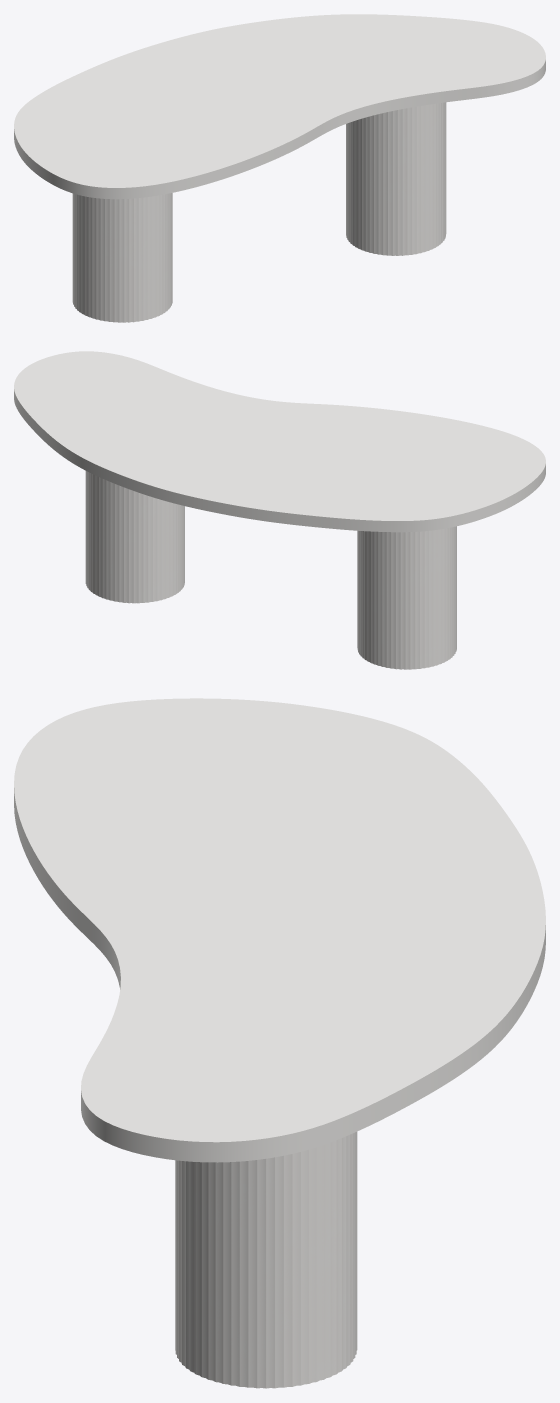
Rendered from purewhite_leaf1_standard_ripplesecond.glb.
3 renders of one model, top to bottom at view 1: azimuth 30°, elevation 25°; view 2: azimuth 150°, elevation 25°; view 3: azimuth 270°, elevation 25°, orthographic. The views are drawn at different scales.
Parts seen in each view (by area): view 1: standard_leaf1, ripplesecond; view 2: standard_leaf1, ripplesecond; view 3: standard_leaf1, ripplesecond.
Boxes of the visible parts, x1,y1,x2,y2 form: standard_leaf1: [14, 14, 545, 199]; ripplesecond: [72, 102, 446, 322]; standard_leaf1: [14, 351, 545, 532]; ripplesecond: [85, 471, 456, 669]; standard_leaf1: [14, 698, 545, 1162]; ripplesecond: [175, 1132, 357, 1388].
Bounding box in the file's own units: 7.5 × 2.51 × 3.8.
1 material, 1 textured.
